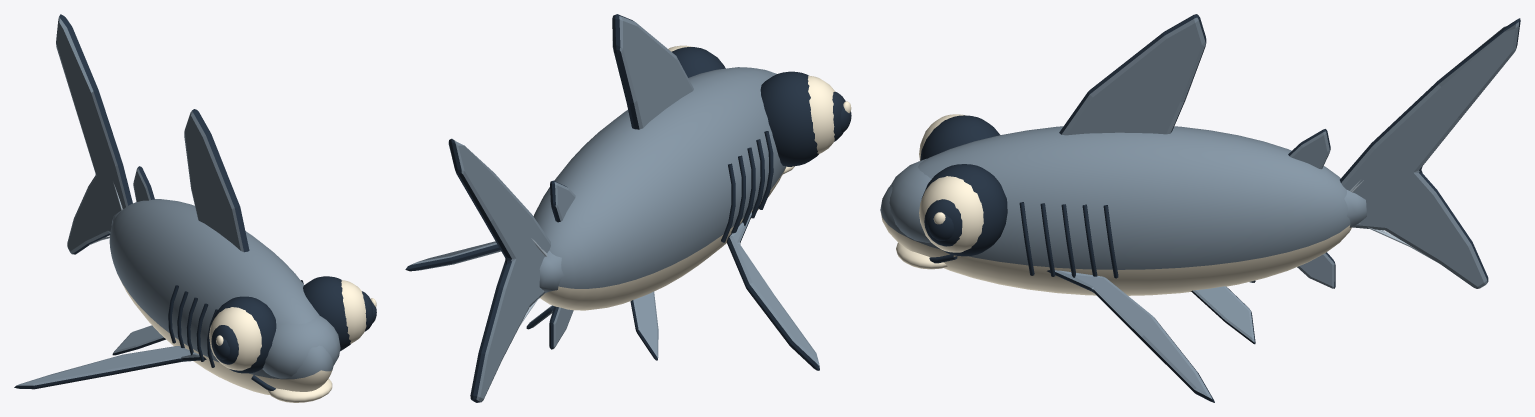
The model's file is shark.glb.
3 views of the same model, side by side, from view 1: azimuth 30°, elevation 25°; view 2: azimuth 150°, elevation 25°; view 3: azimuth 270°, elevation 25° (orthographic). The views are drawn at different scales.
Parts seen in each view (by area): view 1: BodyMesh, TailMesh, PectoralMesh; view 2: BodyMesh, TailMesh, PectoralMesh, PectoralMesh.001; view 3: BodyMesh, TailMesh, PectoralMesh.001.
Boxes of the visible parts, <box> form: BodyMesh: <box>109,109,376,402</box>; TailMesh: <box>56,14,132,254</box>; PectoralMesh: <box>14,346,206,389</box>; BodyMesh: <box>526,14,851,360</box>; TailMesh: <box>448,138,564,402</box>; PectoralMesh: <box>727,212,819,370</box>; PectoralMesh.001: <box>405,241,501,271</box>; BodyMesh: <box>880,14,1352,344</box>; TailMesh: <box>1340,18,1520,288</box>; PectoralMesh.001: <box>1047,270,1214,402</box>.
Size of the model in its own units: 2.12 by 1.51 by 2.9.
